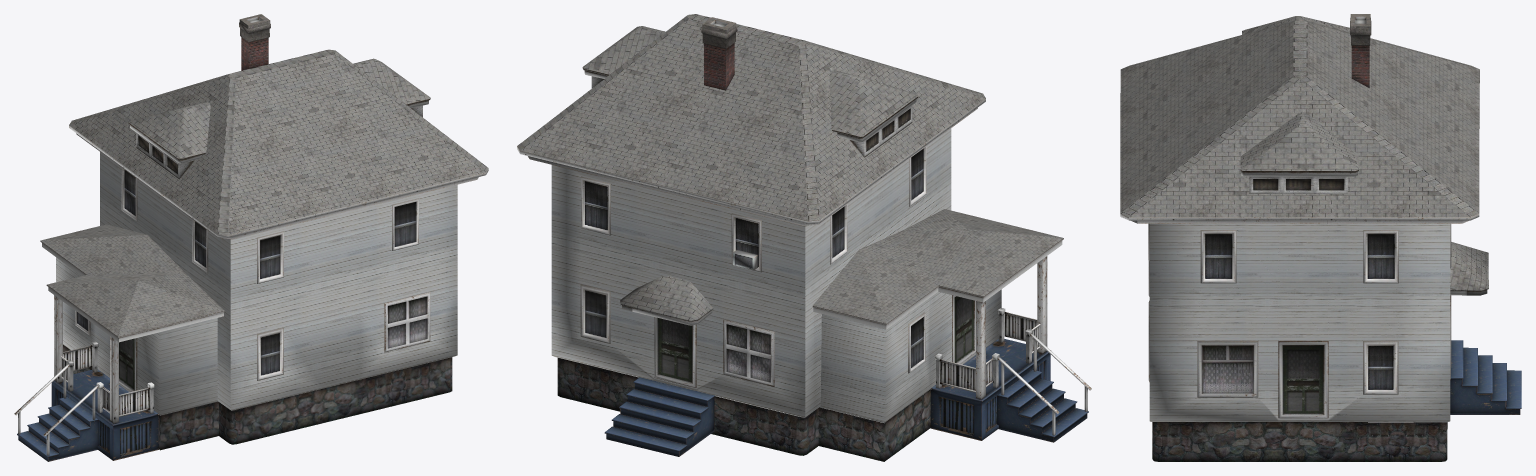
The model's file is house-9m.glb.
The picture shows the model from 3 angles, left to right: view 1: azimuth 30°, elevation 25°; view 2: azimuth 150°, elevation 25°; view 3: azimuth 270°, elevation 25°; orthographic projection. The views are drawn at different scales.
Parts seen in each view (by area): view 1: house; view 2: house; view 3: house.
Part boxes in pixels (x1,y1,x2,y2): house: (14,14,488,461); house: (517,14,1091,461); house: (1120,14,1521,461).
Size of the model in its own units: 12.15 by 9.53 by 9.1.
3 materials, 3 textured.
